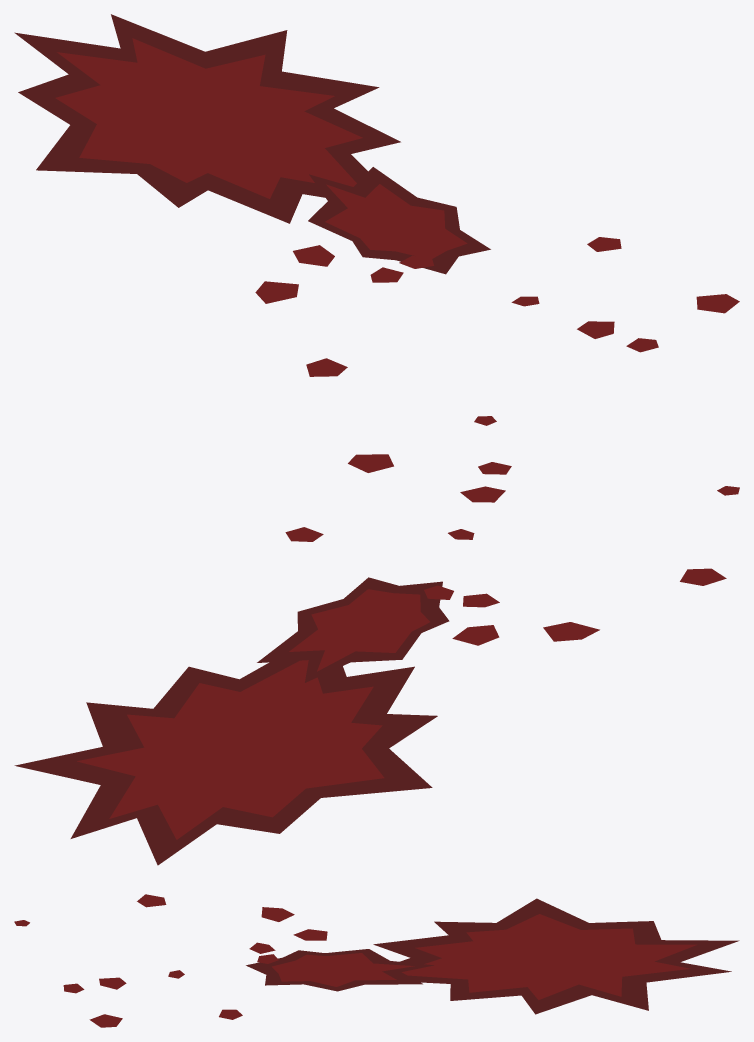
Rendered from blood_splat_c.glb.
3 renders of one model, top to bottom at view 1: azimuth 30°, elevation 25°; view 2: azimuth 150°, elevation 25°; view 3: azimuth 270°, elevation 25°, orthographic. The views are drawn at different scales.
Parts seen in each view (by area): view 1: Decal; view 2: Decal; view 3: Decal.
Part boxes in pixels (bbox=[...]): Decal: bbox=[14, 14, 739, 425]; Decal: bbox=[14, 454, 739, 865]; Decal: bbox=[14, 894, 739, 1027].
Size of the model in its own units: 0.5937 by 0.0063 by 1.35.
